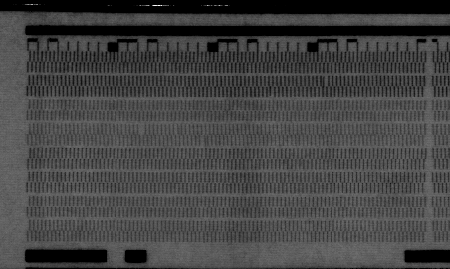Broken hole: (136, 123, 147, 136)
Oblique printing: (318, 74, 331, 88), (198, 134, 210, 148)
